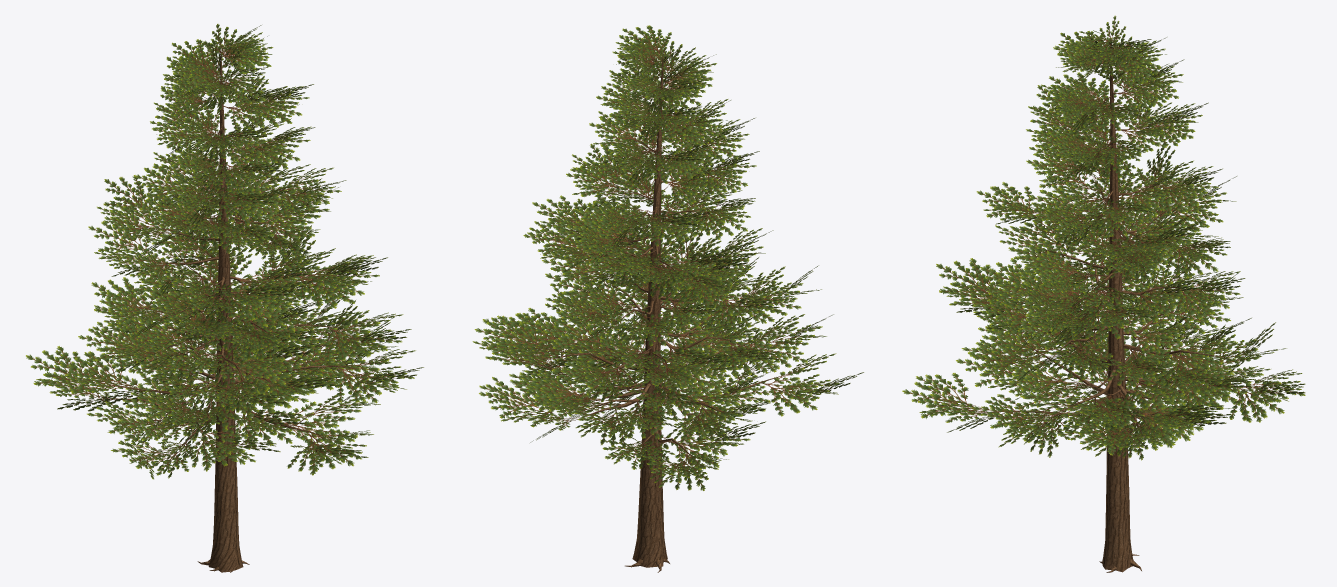
Rendered from corealm_pine_1.glb.
3 renders of one model, left to right at view 1: azimuth 30°, elevation 25°; view 2: azimuth 150°, elevation 25°; view 3: azimuth 270°, elevation 25°, orthographic. The views are drawn at different scales.
Parts seen in each view (by area): view 1: corealm_pine_1; view 2: corealm_pine_1; view 3: corealm_pine_1.
Boxes of the visible parts, x1,y1,x2,y2 form: corealm_pine_1: (26,24,423,572); corealm_pine_1: (472,25,863,572); corealm_pine_1: (902,15,1305,572).
Bounding box in the file's own units: 6.93 × 10.55 × 7.41.
2 materials, 2 textured.
